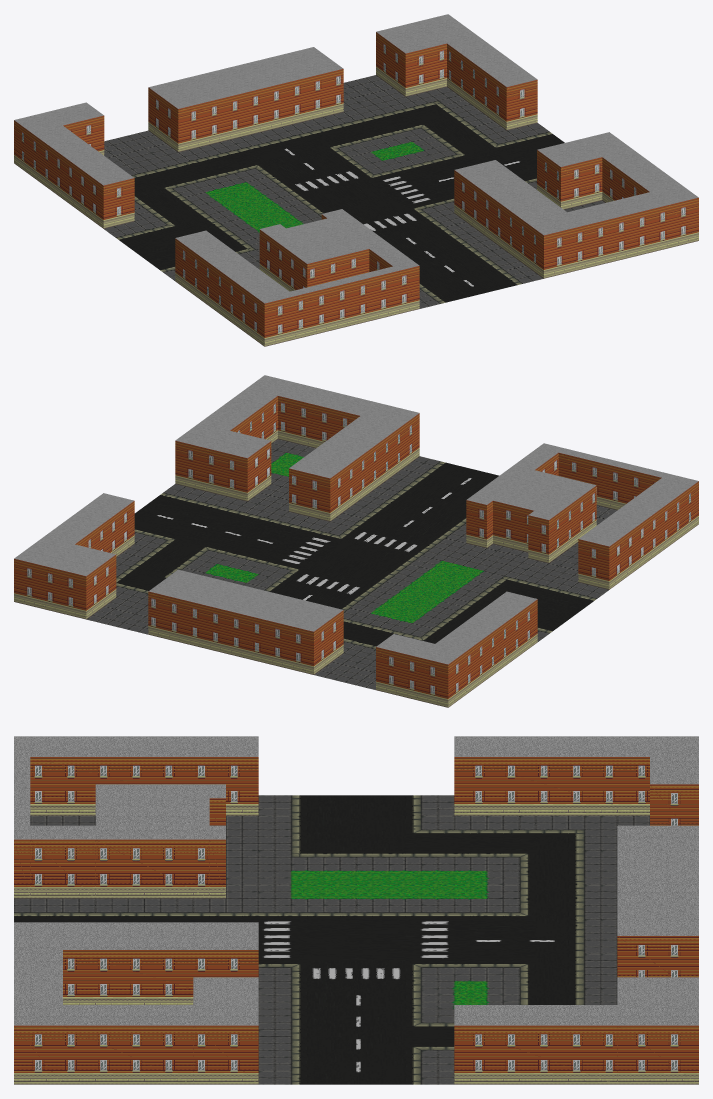
Rendered from Block2.fbx.
The picture shows the model from 3 angles, top to bottom: view 1: azimuth 30°, elevation 25°; view 2: azimuth 150°, elevation 25°; view 3: azimuth 270°, elevation 25°; orthographic projection. The views are drawn at different scales.
Visible parts, largest first — view 1: Plane, Building4, Building5, Building2, Building3, Building1; view 2: Plane, Building4, Building5, Building2, Building1, Building3; view 3: Plane, Building4, Building5, Building3, Building1, Building2.
Boxes of the visible parts, x1,y1,x2,y2 form: Plane: [104, 75, 605, 308]; Building4: [454, 132, 698, 278]; Building5: [175, 209, 419, 346]; Building2: [148, 47, 343, 152]; Building3: [376, 14, 537, 130]; Building1: [14, 102, 134, 228]; Plane: [86, 439, 616, 689]; Building4: [175, 375, 419, 521]; Building5: [466, 443, 698, 589]; Building2: [148, 569, 343, 674]; Building1: [376, 591, 537, 707]; Building3: [14, 493, 134, 619]; Plane: [14, 795, 649, 1084]; Building4: [14, 922, 258, 1084]; Building5: [14, 736, 258, 898]; Building3: [454, 977, 698, 1084]; Building1: [454, 736, 698, 825]; Building2: [617, 825, 698, 977].
Bounding box in the file's own units: 420 × 40 × 420.
11 materials, 11 textured.
